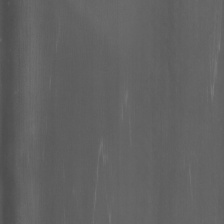silk_spot: (91, 80, 136, 224)
